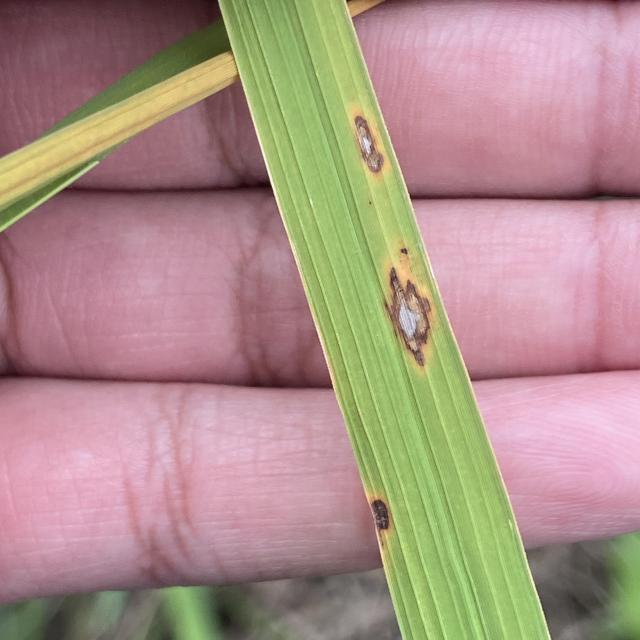Dao on: (386, 267, 431, 367), (354, 116, 384, 174)
